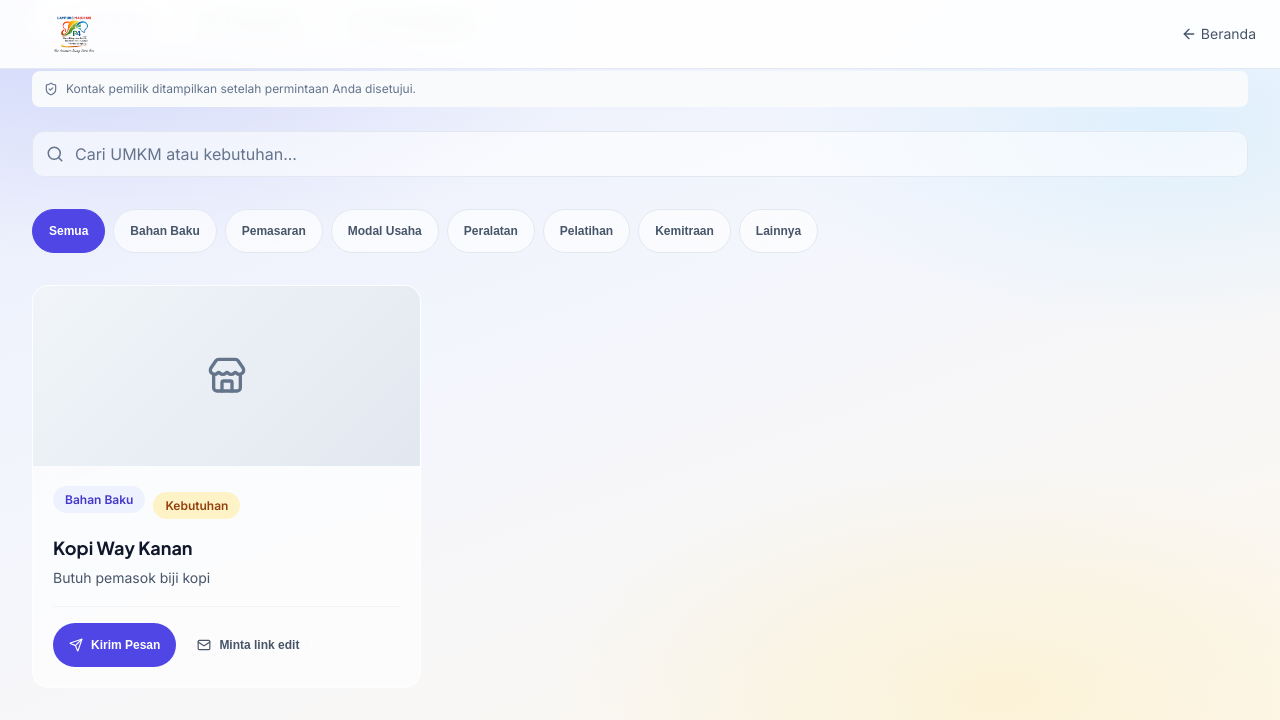
it: UMKM publik: permintaan link edit (T6) › res.ok: menampilkan "Permintaan Diterima" dan memanggil endpoint dengan listing + email
The width and height of the screenshot is (1280, 720).
(page scrolled)
Click the button with aria-label "minta link edit untuk kopi way kanan".
click(248, 645)  # box left=184, top=629, right=312, bottom=661
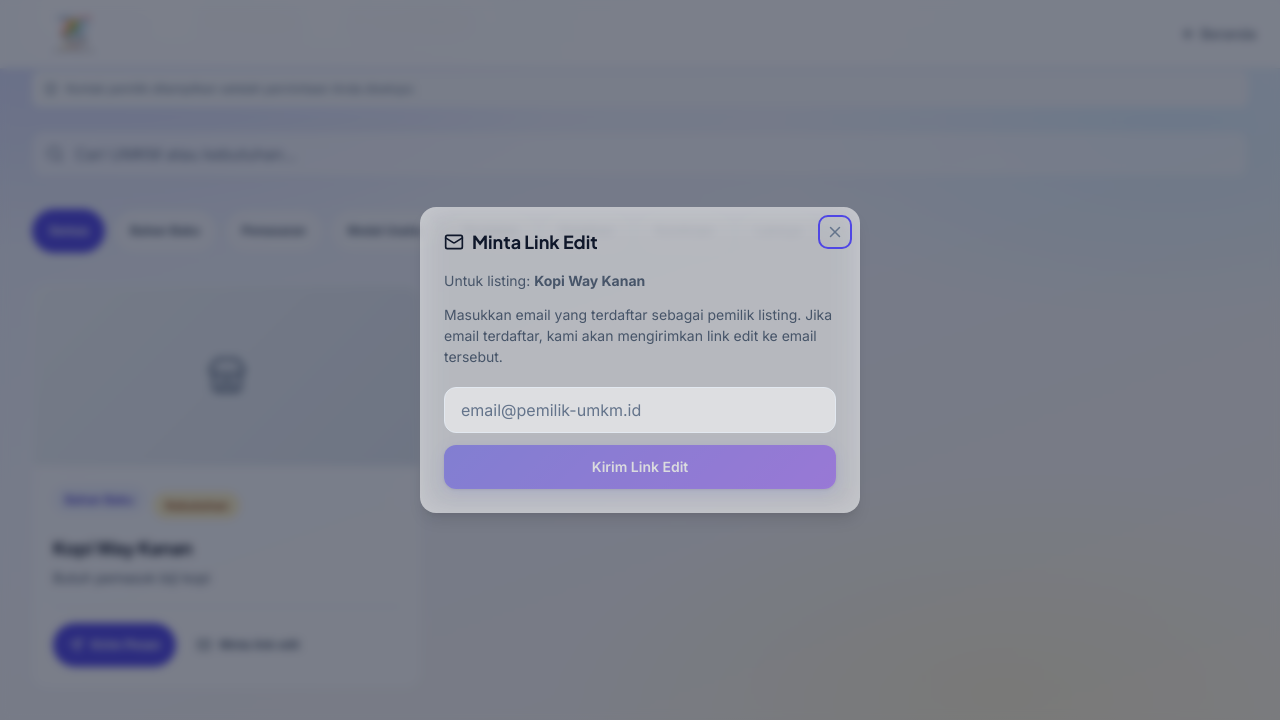
Type "pemilik@contoh.id" into the field with placeholder "email@pemilik-umkm.id".
click(640, 410); type("pemilik@contoh.id")  # box left=444, top=387, right=836, bottom=433
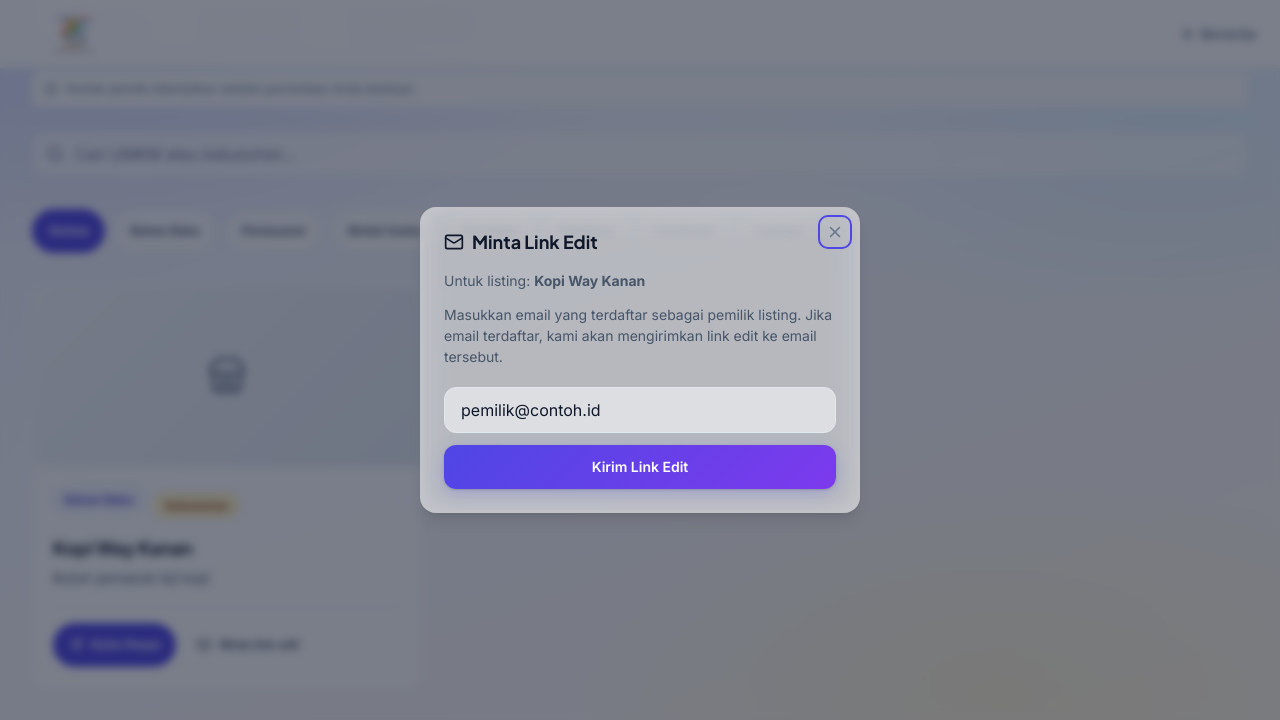
Click the button "Kirim Link Edit".
click(640, 467)  # box left=444, top=445, right=836, bottom=489
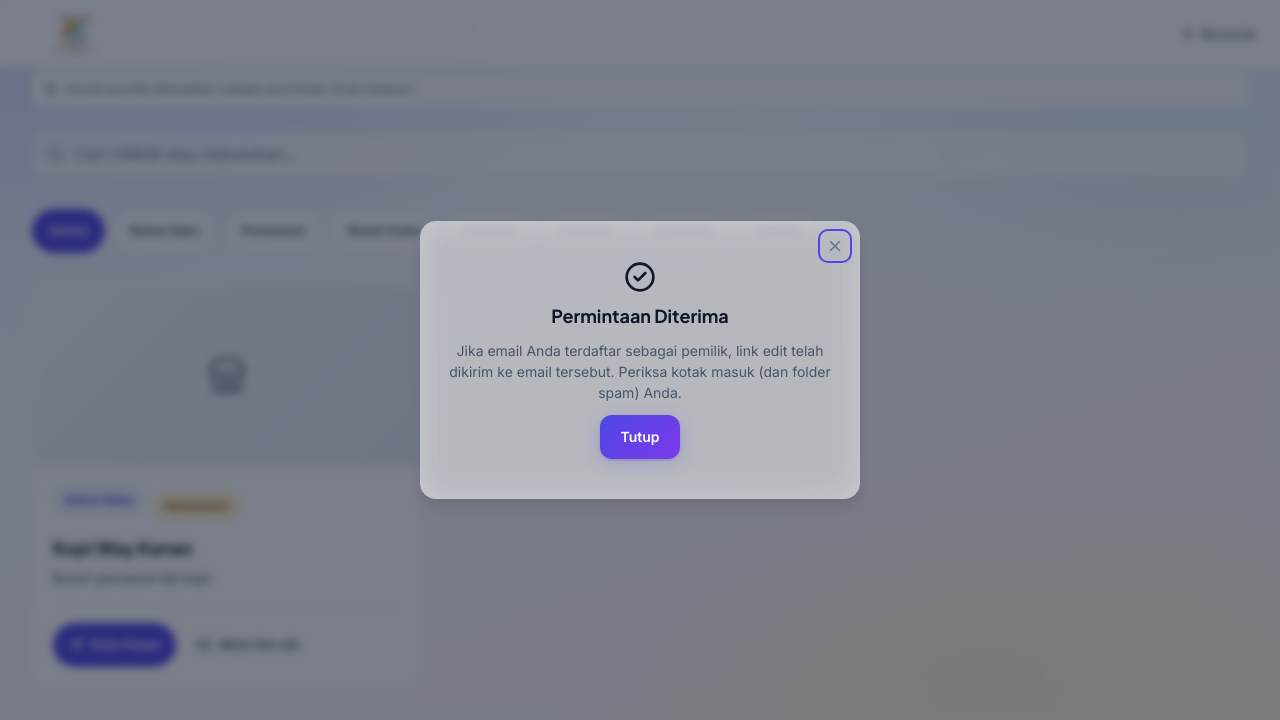
Expected: the heading "Permintaan Diterima" is shown, left=551, top=305, right=729, bottom=328
